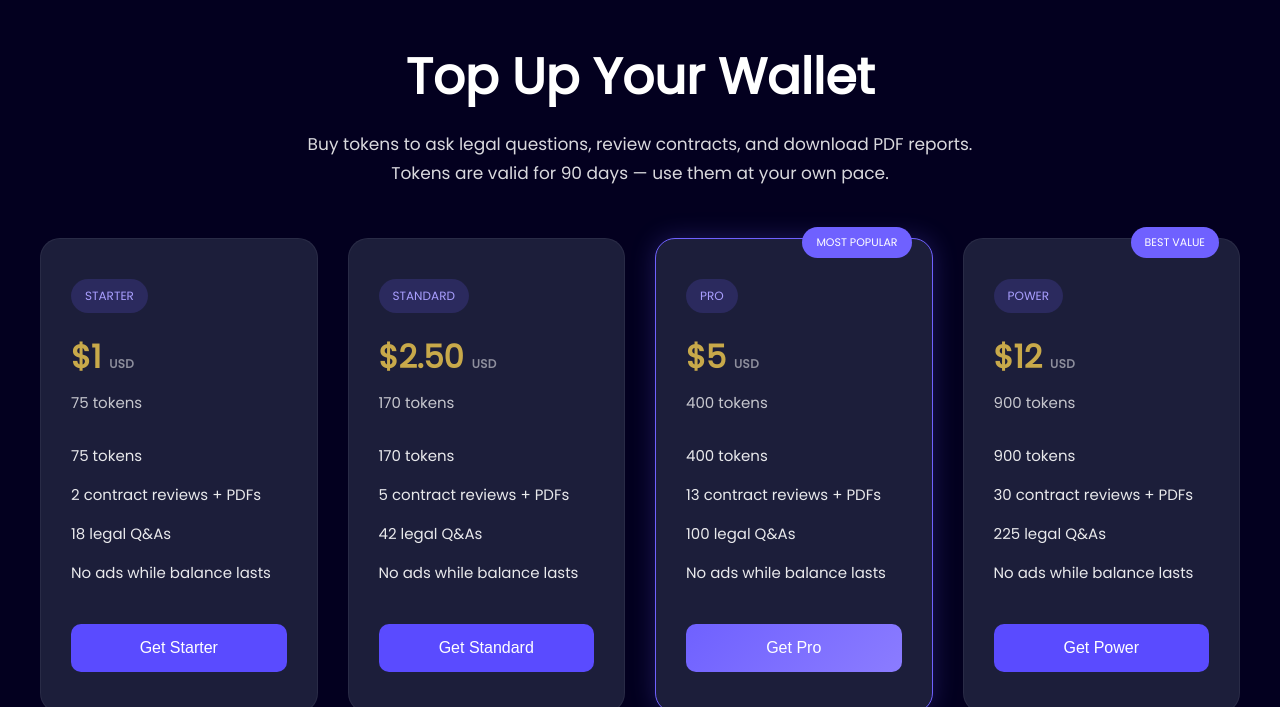
Test: blocks checkout with an inline error if neither the cookie nor /auth/me report a logged-in user
The width and height of the screenshot is (1280, 707).
Click the button "Get Starter".
click(179, 648)  # box [71,624,286,672]
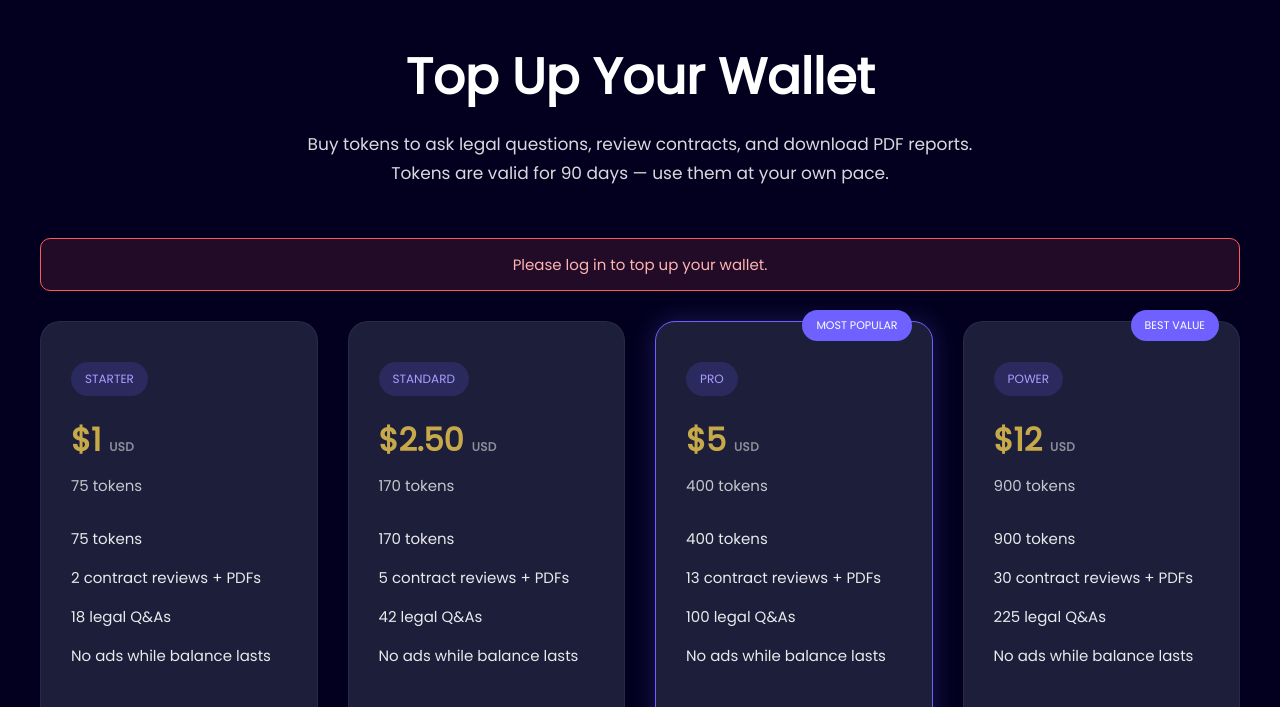
Now the text "Please log in to top up your wallet." is shown, box [40,238,1240,291]
